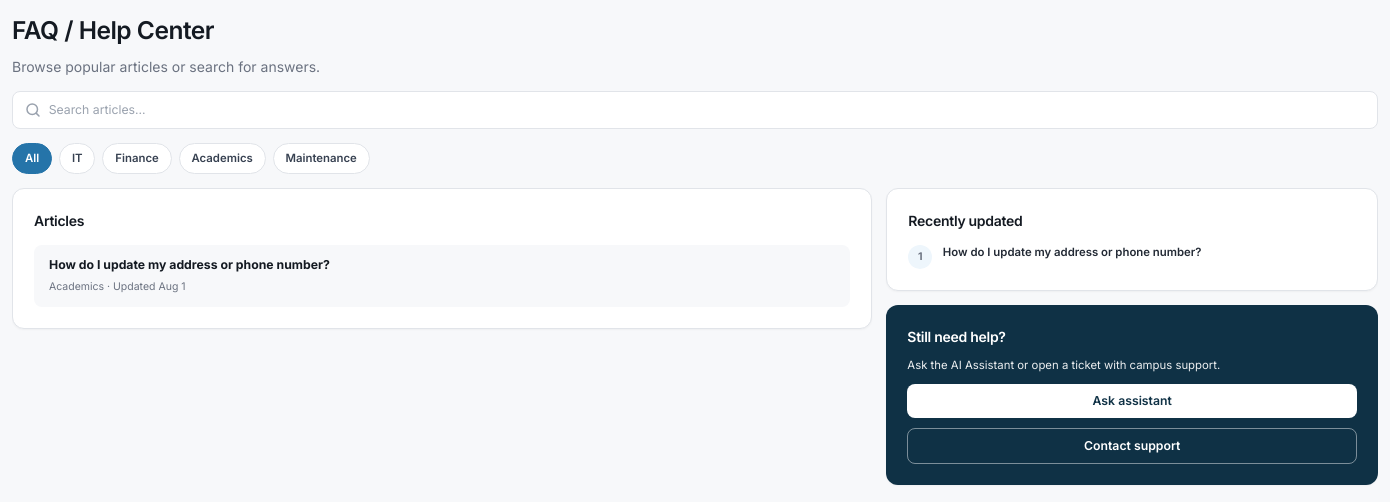
Test: localized full pages › renders en FAQ content without the other language
Click the button "How do I update my address or phone number?". click: (189, 265)
box: [34,245,850,307]
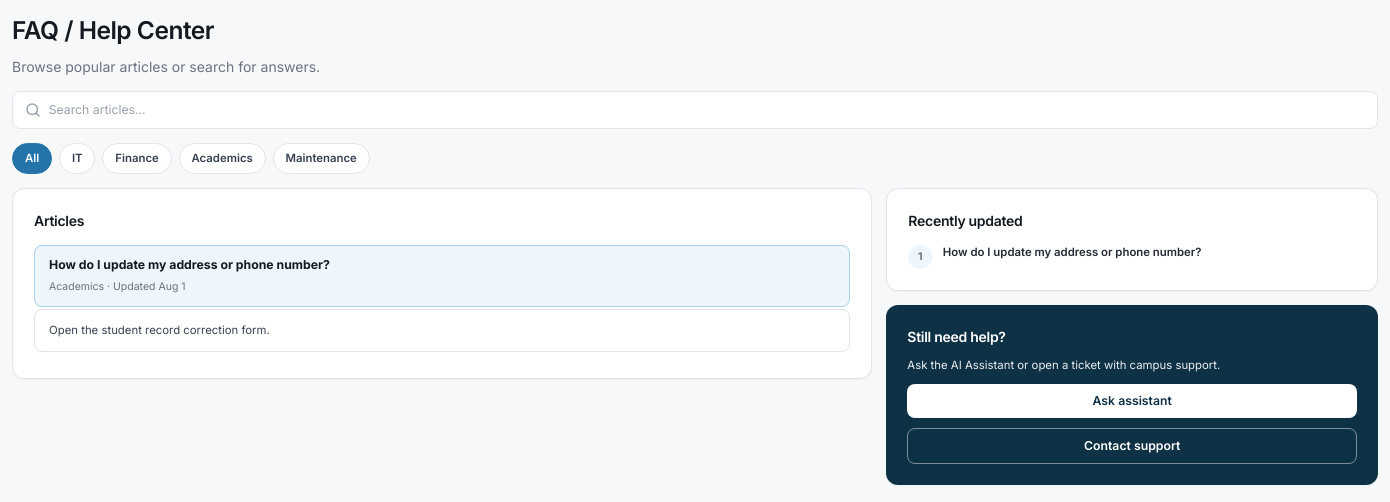
Expected: the text "Open the student record correction form." is shown, [49,323,270,337]
